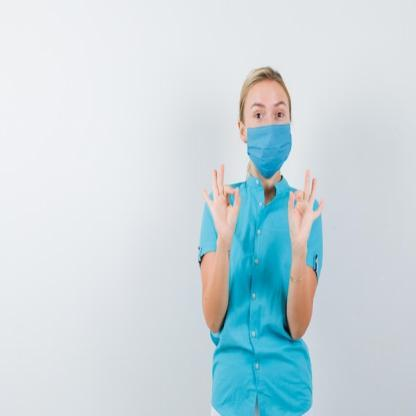ok: (200, 161, 244, 246), (286, 165, 325, 249)
